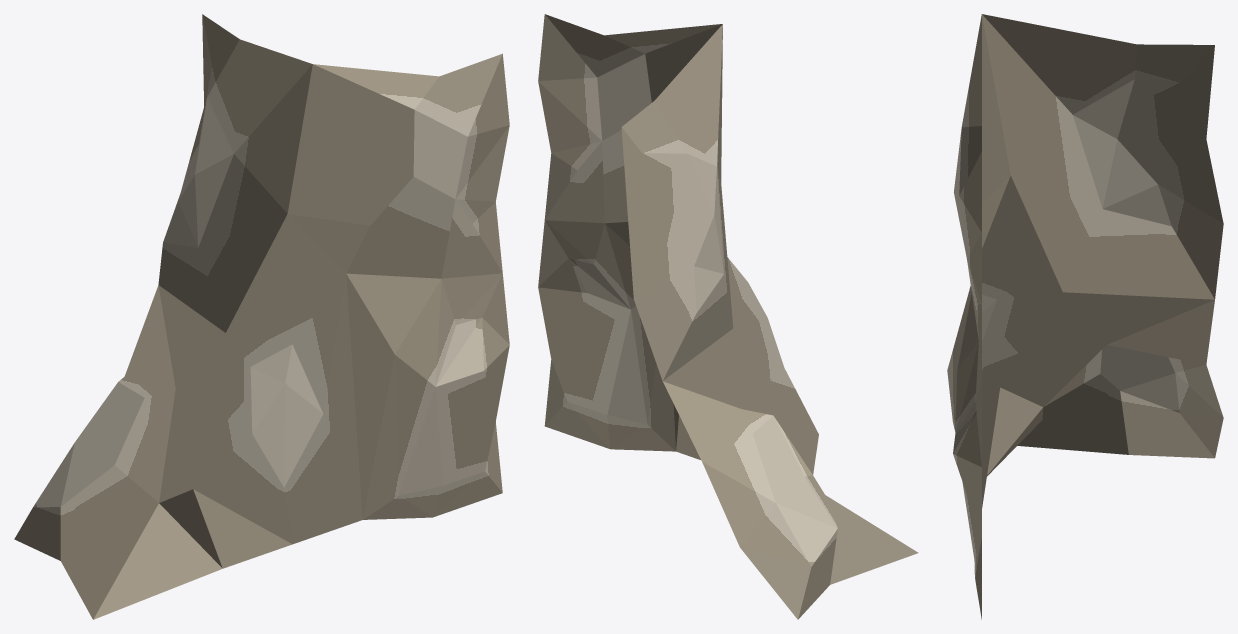
Rendered from PartOfCorner_SoftArch_00.fbx.
The picture shows the model from 3 angles, left to right: view 1: azimuth 30°, elevation 25°; view 2: azimuth 150°, elevation 25°; view 3: azimuth 270°, elevation 25°; orthographic projection. The views are drawn at different scales.
Visible parts, largest first — view 1: PartOfCorner_SoftArch_00; view 2: PartOfCorner_SoftArch_00; view 3: PartOfCorner_SoftArch_00.
Boxes of the visible parts, x1,y1,x2,y2 form: PartOfCorner_SoftArch_00: (14,14,509,619); PartOfCorner_SoftArch_00: (538,14,918,619); PartOfCorner_SoftArch_00: (947,14,1223,619).
Bounding box in the file's own units: 97.98 × 116 × 53.47.
Materials: 1 (1 with a texture image).
